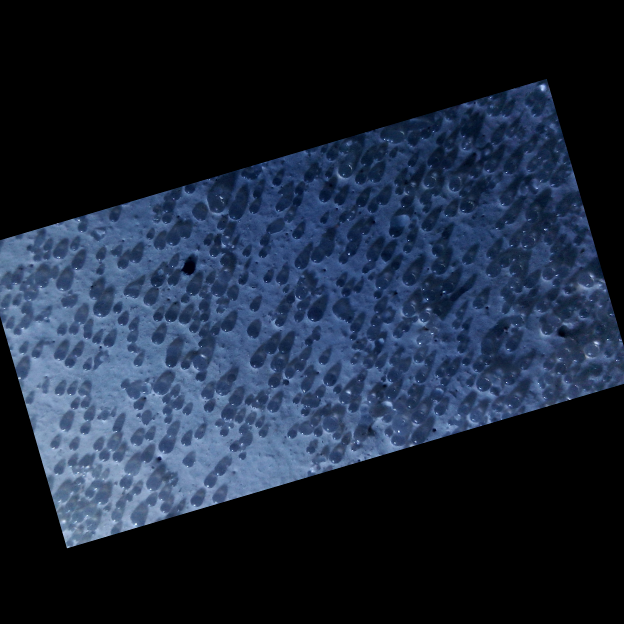GrassBeadSeg: (365, 562, 383, 595), (294, 523, 311, 552), (66, 106, 83, 134), (312, 303, 328, 332), (97, 174, 113, 203), (262, 65, 277, 95), (181, 333, 197, 361), (196, 393, 212, 421), (462, 532, 477, 559), (81, 497, 96, 524), (259, 381, 275, 406), (582, 530, 598, 554), (123, 473, 137, 500), (451, 288, 466, 313), (221, 206, 236, 231), (135, 360, 150, 385), (419, 291, 433, 317), (190, 83, 204, 109), (73, 596, 87, 622), (246, 44, 260, 70), (240, 363, 254, 388), (497, 187, 512, 210), (409, 352, 423, 376), (385, 51, 399, 75), (414, 415, 428, 439), (552, 521, 566, 545), (99, 538, 112, 563), (100, 482, 113, 507), (387, 562, 401, 585), (488, 585, 502, 608), (505, 324, 519, 347), (550, 289, 563, 313), (446, 15, 459, 39), (381, 599, 394, 623), (374, 469, 388, 491), (196, 192, 210, 214), (195, 448, 209, 470), (418, 196, 432, 218), (434, 337, 448, 359), (309, 440, 322, 463), (468, 120, 481, 143), (390, 286, 403, 309), (357, 88, 370, 111), (147, 265, 160, 288), (332, 198, 345, 221), (455, 331, 468, 354), (452, 202, 466, 223), (166, 230, 179, 252), (207, 427, 220, 449), (447, 592, 460, 614), (562, 362, 575, 384), (319, 484, 332, 506), (258, 348, 271, 370), (552, 601, 565, 623), (46, 92, 59, 114), (447, 123, 460, 145), (3, 15, 16, 37), (274, 353, 286, 376), (413, 530, 425, 553), (414, 79, 426, 102), (372, 531, 384, 554), (246, 306, 258, 329), (375, 179, 388, 200), (561, 243, 574, 264), (72, 49, 85, 70), (439, 145, 452, 166), (477, 27, 490, 48), (516, 70, 529, 91), (457, 255, 469, 277), (244, 460, 256, 482), (503, 477, 515, 499), (493, 141, 505, 163), (87, 79, 99, 101), (293, 591, 305, 613), (107, 356, 119, 378), (44, 538, 56, 560), (72, 522, 84, 544), (4, 513, 16, 535), (269, 521, 281, 543), (150, 189, 163, 209), (361, 595, 374, 615), (553, 140, 566, 160), (482, 380, 495, 400), (416, 128, 429, 148), (177, 86, 188, 109), (221, 281, 233, 302), (139, 597, 151, 618), (314, 203, 326, 224), (530, 337, 542, 358), (305, 261, 317, 282), (540, 199, 552, 220), (424, 374, 436, 395), (163, 157, 175, 178), (368, 502, 380, 523), (148, 99, 160, 120), (14, 560, 26, 581), (27, 557, 39, 578), (412, 561, 424, 581), (464, 499, 476, 519), (227, 56, 239, 76), (540, 369, 552, 389), (567, 538, 579, 558), (67, 148, 79, 168), (404, 237, 415, 258), (154, 318, 165, 339), (492, 541, 503, 562), (389, 229, 400, 250), (386, 533, 397, 554), (597, 190, 608, 211), (237, 224, 247, 247), (29, 378, 39, 401), (290, 224, 302, 243), (534, 128, 546, 147), (97, 147, 109, 166), (31, 114, 43, 133), (53, 582, 65, 601), (399, 78, 410, 98), (372, 105, 383, 125), (253, 415, 264, 435), (207, 512, 218, 532), (97, 449, 108, 469), (181, 399, 192, 419), (411, 45, 422, 65), (369, 208, 380, 228), (348, 45, 359, 65), (478, 86, 489, 106), (593, 250, 604, 270), (173, 551, 183, 572), (528, 592, 538, 613), (255, 260, 266, 279), (180, 165, 191, 184), (97, 247, 108, 266), (539, 236, 550, 255), (436, 575, 447, 594), (75, 186, 86, 205), (162, 604, 173, 623), (585, 177, 596, 196), (546, 422, 557, 441), (196, 24, 207, 43), (424, 44, 435, 63), (513, 376, 524, 395), (224, 0, 235, 19), (27, 585, 38, 604), (601, 402, 612, 421), (181, 244, 191, 264), (204, 231, 214, 251), (73, 469, 83, 489), (159, 569, 169, 589), (548, 551, 558, 571), (520, 46, 530, 66), (481, 191, 492, 209), (309, 401, 320, 419), (545, 469, 556, 487), (22, 140, 33, 158), (598, 48, 609, 66), (377, 17, 388, 35), (491, 98, 502, 116), (554, 24, 565, 42), (126, 231, 137, 249), (291, 384, 302, 402), (283, 400, 294, 418), (485, 290, 495, 309), (394, 122, 404, 141), (403, 489, 413, 508), (143, 519, 153, 538), (106, 593, 116, 612), (601, 547, 611, 566), (537, 284, 547, 303), (549, 79, 559, 98), (108, 569, 118, 588), (599, 500, 609, 519), (576, 271, 586, 290), (423, 492, 434, 509), (60, 563, 71, 580), (323, 572, 334, 589), (287, 479, 298, 496), (567, 33, 578, 50), (381, 334, 391, 352), (511, 295, 521, 313), (359, 221, 369, 239), (277, 304, 287, 322), (109, 384, 119, 402), (188, 482, 198, 500), (118, 214, 128, 232), (168, 333, 178, 351), (9, 463, 19, 481), (134, 106, 144, 124), (404, 139, 414, 157), (297, 306, 307, 324), (536, 538, 546, 556), (44, 244, 54, 262), (94, 574, 104, 592), (149, 405, 159, 423), (284, 442, 294, 460), (239, 158, 249, 176), (34, 524, 44, 542), (553, 264, 563, 282), (464, 35, 474, 53), (311, 86, 321, 104), (138, 169, 148, 187), (534, 314, 544, 332), (525, 365, 535, 383), (347, 504, 357, 522), (309, 567, 319, 585), (282, 515, 292, 533), (295, 501, 305, 519), (271, 408, 281, 426), (522, 317, 531, 336), (56, 376, 65, 395), (407, 452, 417, 469), (180, 365, 190, 382), (52, 264, 62, 281), (335, 66, 345, 83), (459, 153, 469, 170), (320, 148, 330, 165), (527, 244, 537, 261), (284, 75, 294, 92), (20, 229, 30, 246), (192, 47, 202, 64), (357, 550, 367, 567), (71, 446, 81, 463), (139, 12, 149, 29), (21, 77, 31, 94), (231, 135, 240, 153), (326, 509, 335, 527), (355, 433, 364, 451), (60, 462, 69, 480), (366, 441, 375, 459), (147, 478, 156, 496), (81, 414, 90, 432), (237, 444, 246, 462), (56, 439, 65, 457), (389, 460, 398, 478), (284, 535, 293, 553), (366, 383, 375, 401), (256, 525, 266, 541), (208, 287, 218, 303), (33, 313, 43, 329), (512, 525, 522, 541), (436, 495, 446, 511), (499, 63, 509, 79), (207, 86, 217, 102), (48, 401, 57, 418), (180, 428, 189, 445), (122, 253, 131, 270), (588, 459, 597, 476), (553, 575, 562, 592), (381, 443, 390, 460), (472, 589, 481, 606), (83, 545, 92, 562), (577, 153, 586, 170), (114, 80, 123, 97), (162, 474, 171, 491), (374, 359, 383, 376), (518, 133, 527, 150), (389, 177, 398, 194), (393, 393, 402, 410), (597, 84, 606, 101), (611, 133, 620, 150), (104, 15, 113, 32), (111, 449, 120, 466), (31, 425, 40, 442), (25, 455, 34, 472), (607, 519, 616, 536), (291, 420, 300, 437), (212, 383, 221, 400), (7, 602, 17, 617), (475, 558, 484, 574), (66, 205, 75, 221), (352, 359, 361, 375), (435, 219, 444, 235), (304, 288, 313, 304), (285, 144, 294, 160), (315, 38, 324, 54), (209, 491, 218, 507), (137, 412, 146, 428), (13, 412, 22, 428), (329, 87, 338, 103), (246, 89, 255, 105), (603, 318, 612, 334), (579, 406, 588, 422), (453, 458, 462, 474), (573, 301, 582, 317), (135, 454, 144, 470), (602, 436, 611, 452), (472, 146, 481, 162), (593, 31, 602, 47), (566, 75, 575, 91), (591, 135, 600, 151), (605, 99, 614, 115), (227, 112, 236, 128), (208, 7, 217, 23), (29, 495, 38, 511), (611, 564, 620, 580), (476, 495, 485, 511), (402, 387, 411, 403), (440, 376, 449, 392), (428, 237, 436, 254), (116, 189, 124, 206), (131, 163, 139, 180), (91, 46, 99, 63), (46, 491, 54, 508), (150, 380, 158, 397), (271, 566, 280, 581), (264, 155, 273, 170), (280, 167, 289, 182), (202, 255, 211, 270), (458, 77, 467, 92), (53, 201, 62, 216), (73, 555, 82, 570), (284, 285, 293, 300), (371, 144, 380, 159), (69, 282, 78, 297), (55, 354, 64, 369), (179, 147, 188, 162), (218, 187, 227, 202), (187, 210, 196, 225), (456, 439, 465, 454), (217, 476, 226, 491), (9, 542, 18, 557), (350, 265, 358, 281), (195, 518, 203, 534), (411, 264, 419, 280), (278, 216, 286, 232), (277, 491, 285, 507), (370, 52, 378, 68), (569, 387, 577, 403), (292, 50, 300, 66), (577, 323, 585, 339), (227, 509, 236, 523), (353, 288, 362, 302), (579, 118, 588, 132), (122, 303, 130, 318), (188, 269, 196, 284), (252, 206, 260, 221), (455, 410, 463, 425), (302, 555, 310, 570), (317, 113, 325, 128), (208, 467, 216, 482), (155, 228, 163, 243), (63, 251, 71, 266), (46, 321, 54, 336), (110, 109, 118, 124), (510, 409, 518, 424), (346, 201, 354, 216), (132, 83, 140, 98), (9, 216, 17, 231), (356, 577, 364, 592), (297, 465, 305, 480), (45, 350, 53, 365), (0, 315, 8, 330), (187, 134, 195, 149), (501, 165, 510, 178), (380, 255, 388, 269), (459, 174, 467, 188), (86, 239, 94, 253), (301, 360, 309, 374), (251, 108, 258, 124), (471, 234, 479, 248), (63, 35, 71, 49), (101, 340, 109, 354), (119, 274, 127, 288), (196, 285, 204, 299), (385, 310, 392, 325), (79, 222, 86, 237), (311, 355, 318, 370), (342, 329, 349, 344), (171, 71, 179, 84), (221, 250, 229, 263), (593, 598, 601, 611), (492, 25, 500, 38), (2, 162, 10, 175), (35, 92, 43, 105), (13, 88, 21, 101), (193, 305, 201, 318), (569, 605, 577, 618), (454, 487, 462, 500), (427, 514, 435, 527), (513, 456, 521, 469), (416, 467, 424, 480), (531, 411, 539, 424), (519, 442, 527, 455), (390, 515, 398, 528), (422, 593, 430, 606), (358, 504, 366, 517), (343, 461, 351, 474), (367, 417, 375, 430), (366, 287, 373, 301), (158, 424, 165, 438), (438, 107, 445, 121), (510, 11, 517, 25), (441, 51, 448, 65), (16, 123, 24, 135), (61, 93, 69, 105), (50, 33, 58, 45), (534, 570, 542, 582), (464, 420, 472, 432), (272, 465, 279, 478), (201, 541, 208, 554), (437, 125, 444, 138), (9, 179, 16, 192), (51, 49, 58, 62), (183, 43, 190, 56), (61, 52, 68, 65), (18, 171, 25, 184), (4, 121, 11, 134), (139, 391, 146, 404), (296, 269, 303, 282), (452, 530, 459, 543), (432, 411, 439, 424), (229, 452, 236, 465), (266, 426, 273, 439), (349, 342, 356, 355), (186, 467, 193, 480), (352, 138, 359, 150), (226, 491, 233, 503), (316, 469, 323, 481), (27, 100, 34, 112), (221, 442, 228, 454), (436, 323, 442, 336), (185, 26, 192, 37), (342, 424, 348, 436), (318, 589, 324, 601), (136, 432, 142, 444), (526, 577, 532, 589), (525, 566, 531, 578), (348, 378, 354, 390), (415, 379, 421, 391), (352, 401, 358, 413), (149, 155, 156, 165), (208, 213, 215, 223), (222, 236, 229, 246), (319, 64, 326, 74), (200, 9, 206, 20), (295, 128, 301, 139), (373, 7, 379, 18), (194, 253, 200, 263), (294, 251, 300, 261), (20, 309, 26, 318), (61, 337, 67, 346), (108, 408, 114, 417), (123, 557, 129, 566), (49, 568, 55, 577), (122, 608, 128, 617), (125, 548, 131, 557), (45, 521, 51, 530), (367, 476, 373, 485), (125, 539, 131, 547), (55, 506, 61, 514), (83, 392, 88, 401), (114, 426, 119, 435), (199, 480, 204, 489), (185, 550, 190, 559), (16, 296, 21, 305), (360, 413, 365, 422), (384, 275, 389, 284), (66, 525, 70, 532), (36, 492, 40, 499), (39, 484, 43, 491), (73, 394, 77, 401), (68, 390, 72, 397)
